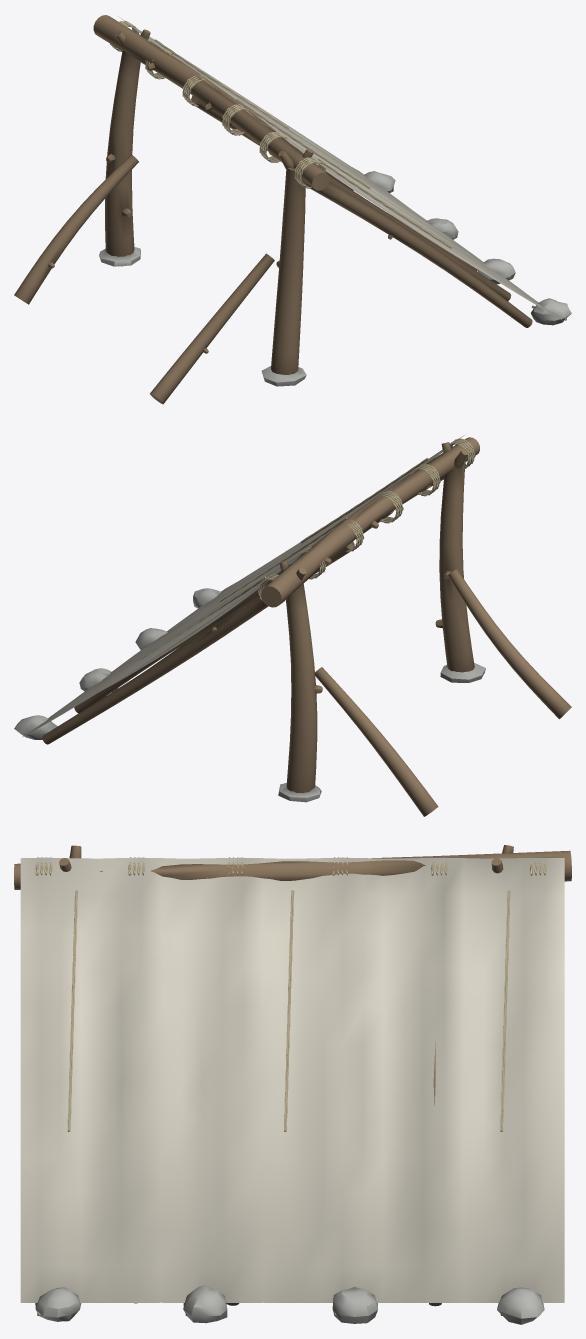
The model's file is stack_shelter.glb.
3 views of the same model, one above another, from view 1: azimuth 30°, elevation 25°; view 2: azimuth 150°, elevation 25°; view 3: azimuth 270°, elevation 25° (orthographic). The views are drawn at different scales.
Visible parts, largest first — view 1: stack_shelter; view 2: stack_shelter; view 3: stack_shelter.
Boxes of the visible parts, left/top/right/bottom form: stack_shelter: left=14, top=15, right=571, bottom=404; stack_shelter: left=14, top=435, right=571, bottom=816; stack_shelter: left=14, top=845, right=571, bottom=1324.
Bounding box in the file's own units: 4.97 × 2.78 × 4.51.
